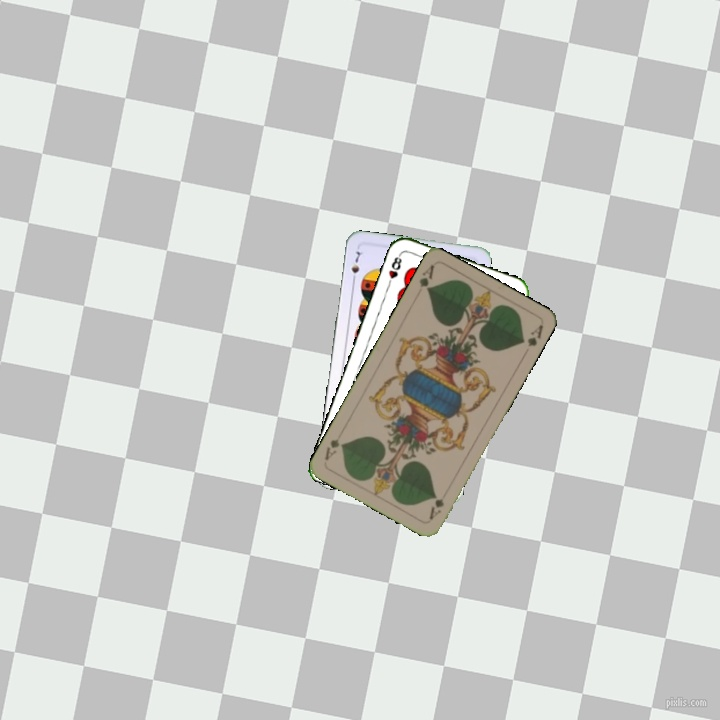GA: (415, 261, 437, 294), (425, 492, 446, 522)
H8: (384, 250, 404, 289)
S7: (347, 247, 363, 285)
